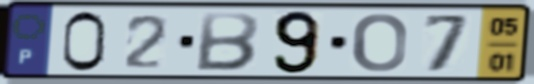0: (60, 9, 109, 73)
2: (122, 13, 171, 70)
7: (421, 13, 474, 74)
9: (269, 9, 326, 77)
B: (192, 10, 262, 73)
O: (350, 12, 409, 74)
